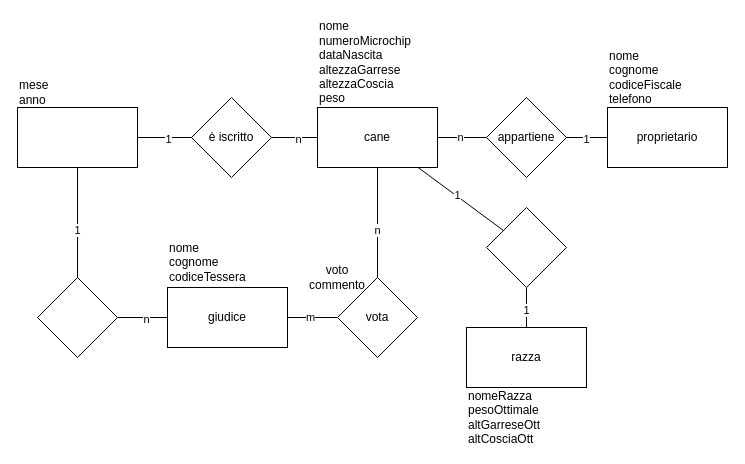
Some shapes in this 745 by 464 pixel diagram are drawn without their labels. Each missing label, with the centre of its shape:
gara: the point at 77,137
ha: the point at 77,317
è di una: the point at 526,247
